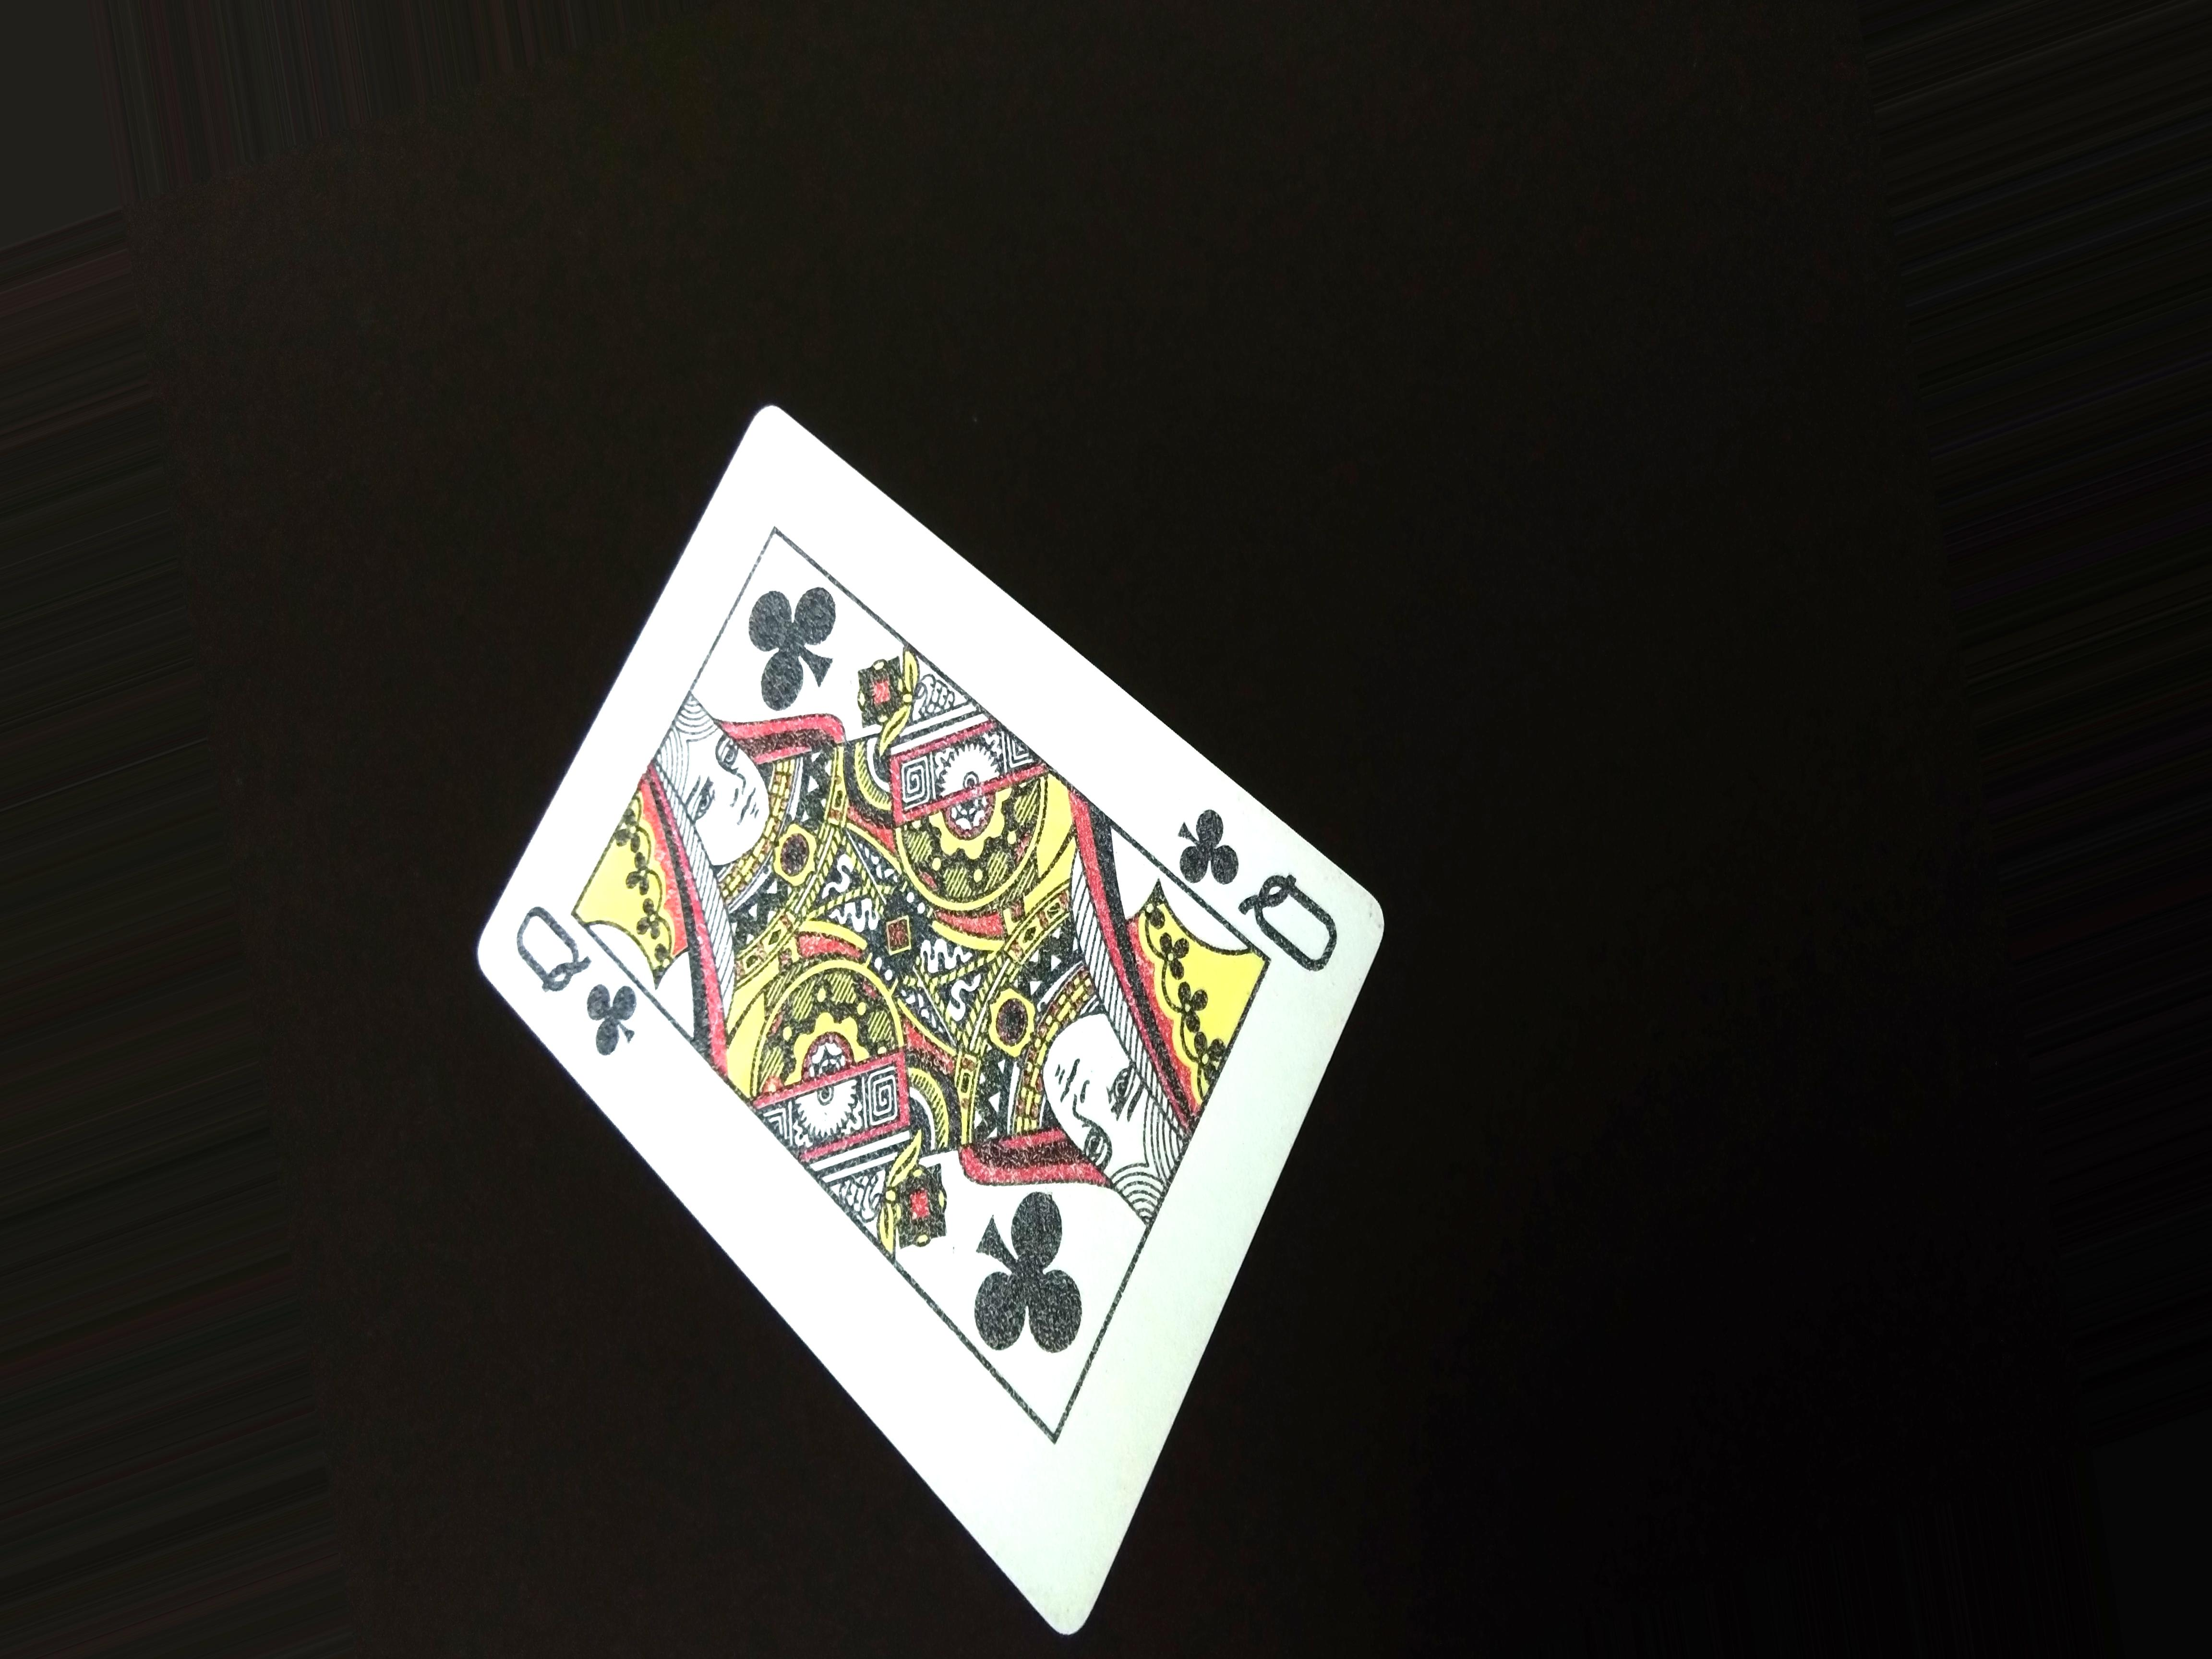QC: (458, 878, 646, 1060)
